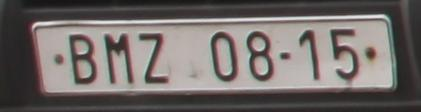-: (279, 51, 292, 61)
.: (364, 46, 378, 61), (53, 53, 64, 67)
0: (208, 29, 238, 80)
1: (298, 29, 320, 81)
5: (331, 26, 359, 77)
8: (246, 30, 274, 81)
B: (68, 31, 99, 84)
M: (101, 30, 136, 86)
Z: (138, 31, 170, 85)
